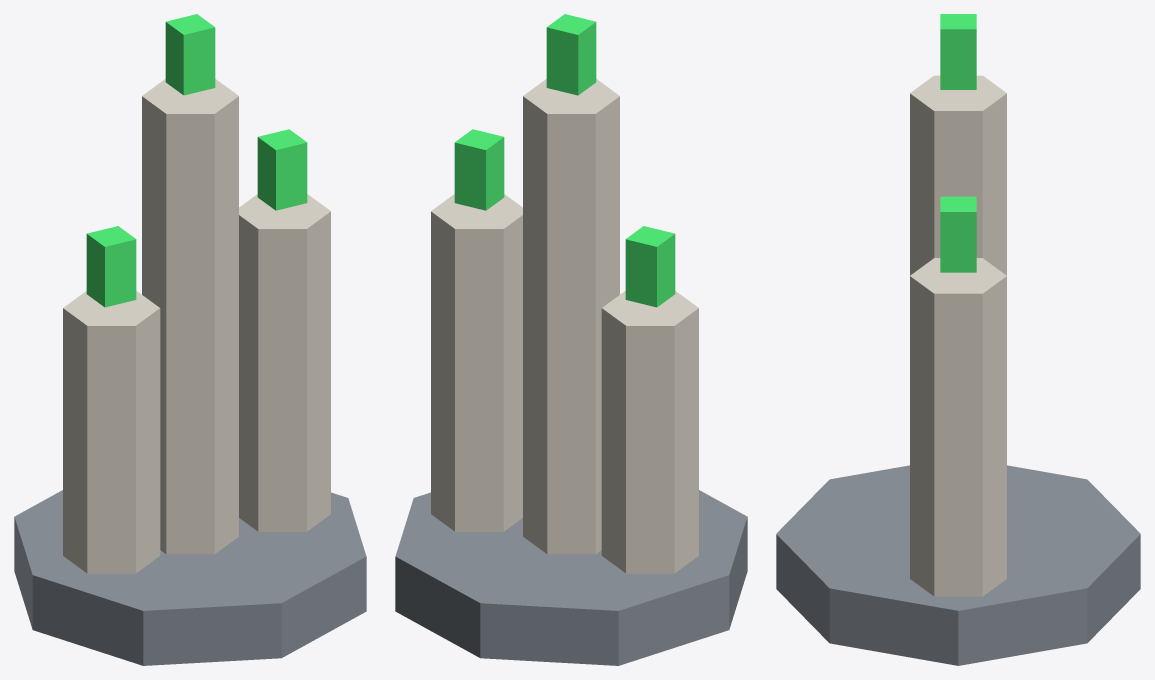
The model's file is HauntedCandle.fbx.
3 renders of one model, left to right at view 1: azimuth 30°, elevation 25°; view 2: azimuth 150°, elevation 25°; view 3: azimuth 270°, elevation 25°, orthographic.
Parts seen in each view (by area): view 1: HauntedCandle; view 2: HauntedCandle; view 3: HauntedCandle.
Boxes of the visible parts, x1=… form: HauntedCandle: x1=14, y1=14, x2=366, y2=665; HauntedCandle: x1=395, y1=14, x2=747, y2=665; HauntedCandle: x1=776, y1=14, x2=1140, y2=665.
Size of the model in its own units: 1.2 by 2.06 by 1.2.
Materials: 1 (1 with a texture image).
